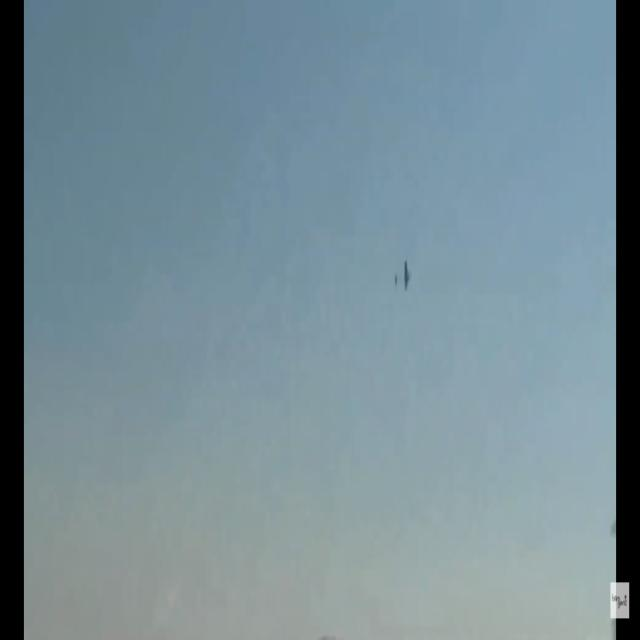iha: (394, 259, 412, 291)
